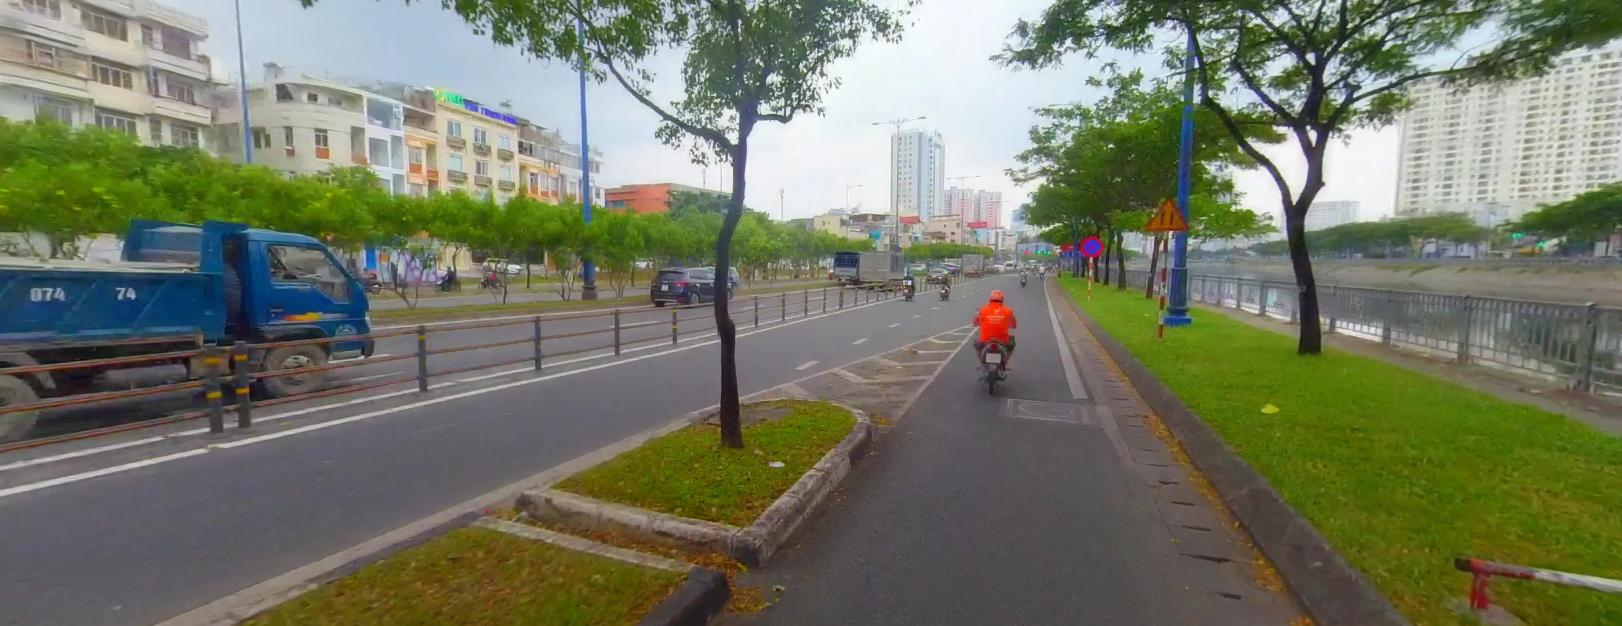Cam dung va do: (1080, 234, 1104, 255), (1081, 234, 1104, 255), (1081, 235, 1104, 256), (1081, 235, 1103, 254)
Nguy hiem: (1143, 195, 1189, 230), (1144, 196, 1189, 230), (1141, 197, 1188, 228), (1144, 196, 1187, 229)
